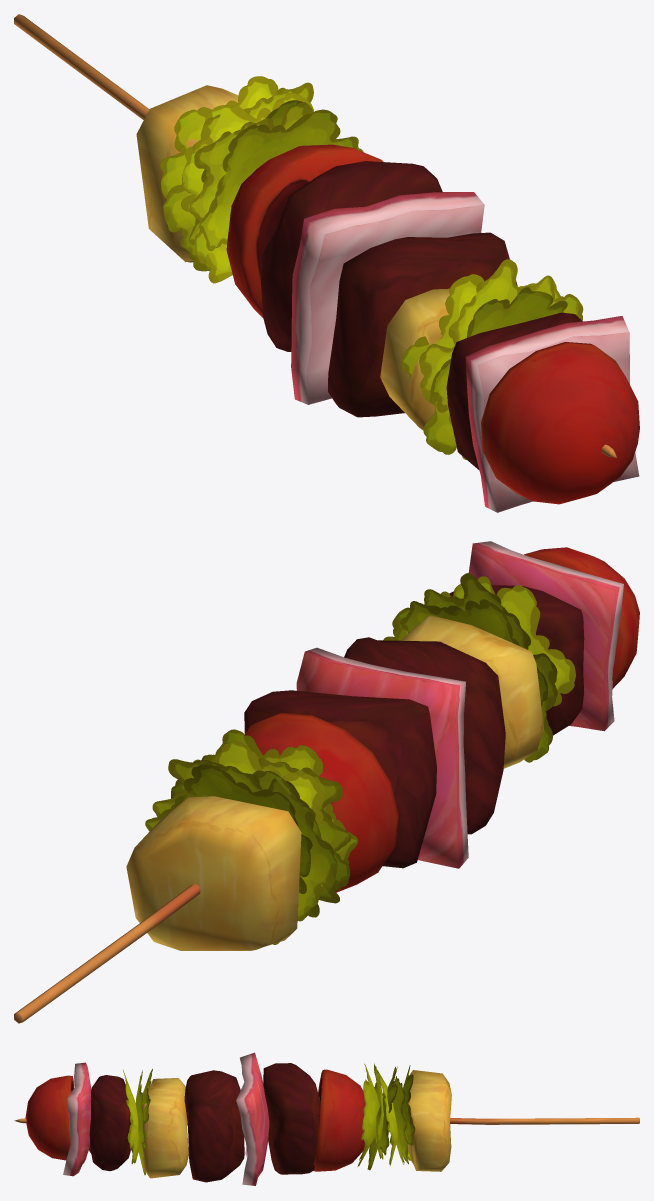
Rendered from uploads_files_5005693_bbq+skewers.fbx.
3 renders of one model, top to bottom at view 1: azimuth 30°, elevation 25°; view 2: azimuth 150°, elevation 25°; view 3: azimuth 270°, elevation 25°, orthographic. The views are drawn at different scales.
Parts seen in each view (by area): view 1: BBQ skewers; view 2: BBQ skewers; view 3: BBQ skewers.
Part boxes in pixels (x1,y1,x2,y2): BBQ skewers: [14, 14, 639, 512]; BBQ skewers: [14, 541, 639, 1023]; BBQ skewers: [14, 1052, 639, 1185].
Bounding box in the file's own units: 465 × 439 × 2091.
Materials: 2 (2 with a texture image).
